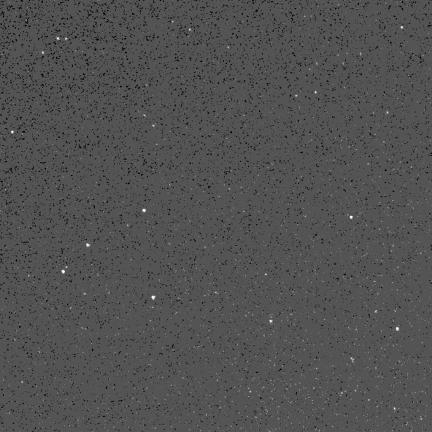blob: (62, 270, 66, 274), (152, 296, 155, 300), (11, 131, 15, 134), (87, 243, 90, 247), (396, 327, 399, 331), (315, 92, 318, 94), (270, 320, 272, 323), (143, 209, 145, 212), (350, 216, 353, 218)
